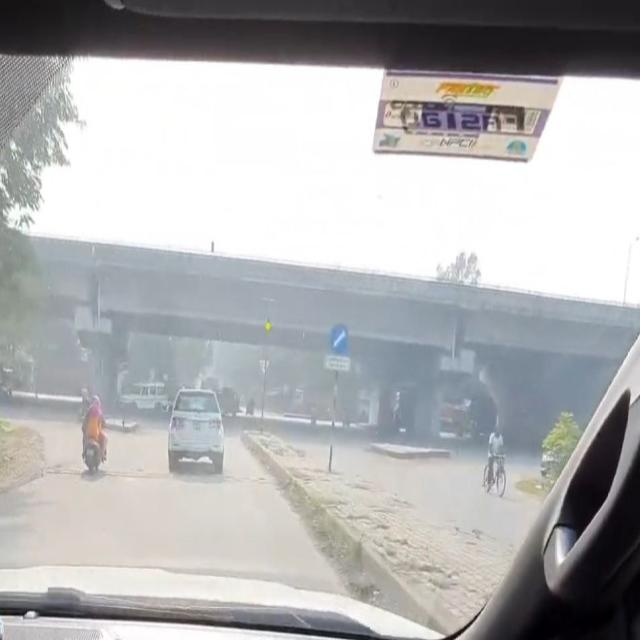compulsory_keep_left: (328, 319, 350, 354)
